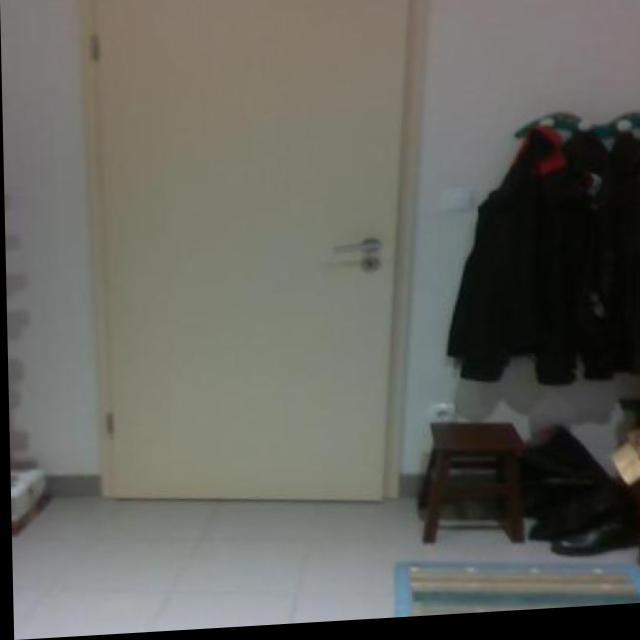door_handle: (322, 236, 386, 267)
